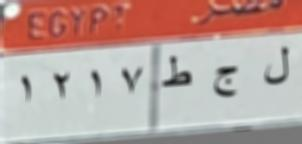1: (86, 68, 106, 99), (19, 73, 32, 106)
2: (50, 66, 72, 104)
7: (119, 64, 145, 97)
Taa: (158, 54, 193, 92)
jeem: (210, 63, 244, 103)
laam: (259, 42, 293, 90)
